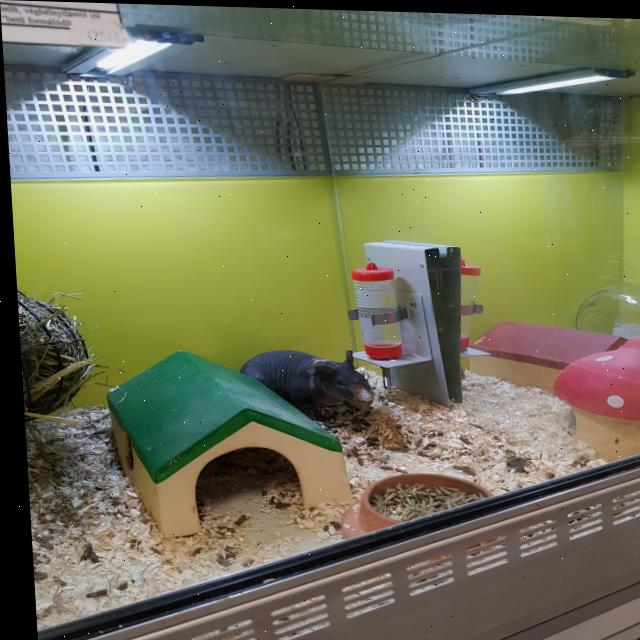guinea pig: (227, 344, 372, 413)
